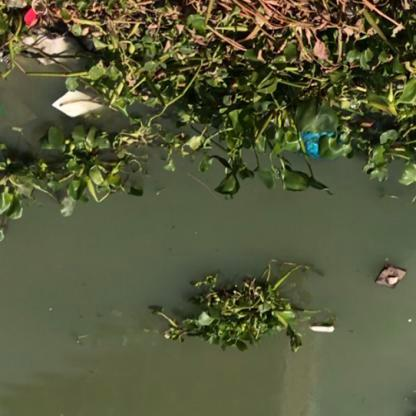Trash: (52, 92, 101, 119)
